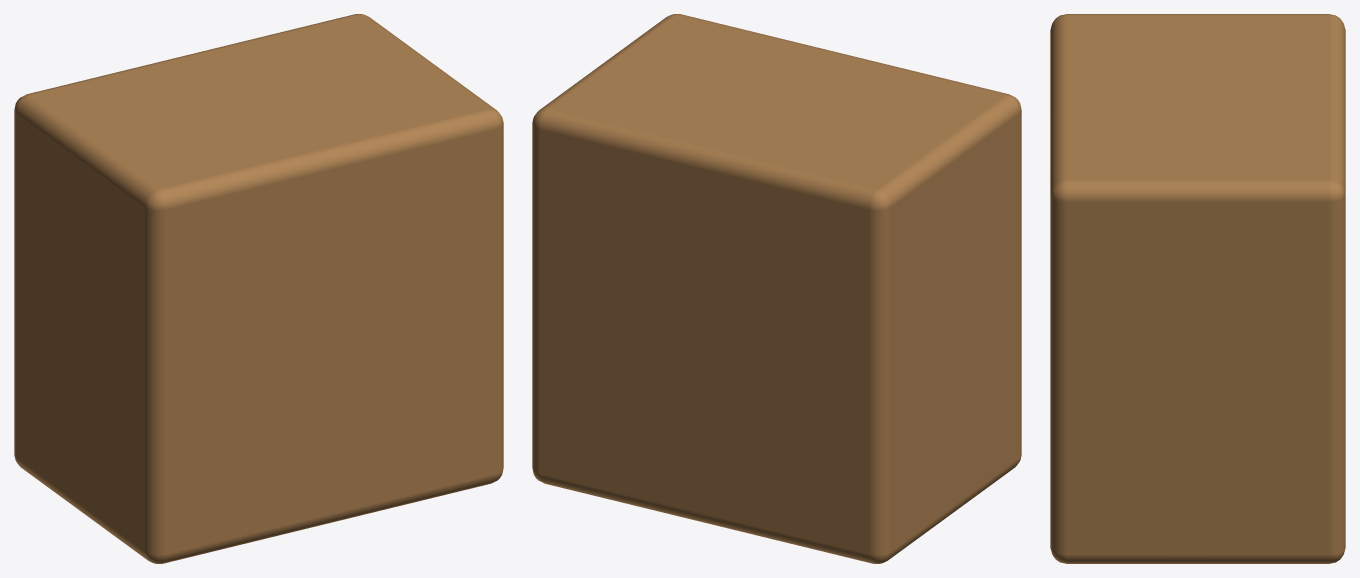
3 renders of one model, left to right at view 1: azimuth 30°, elevation 25°; view 2: azimuth 150°, elevation 25°; view 3: azimuth 270°, elevation 25°, orthographic. The views are drawn at different scales.
Parts seen in each view (by area): view 1: chapter-1; view 2: chapter-1; view 3: chapter-1.
Part boxes in pixels (x1=…): chapter-1: x1=14, y1=14, x2=503, y2=563; chapter-1: x1=532, y1=14, x2=1021, y2=563; chapter-1: x1=1050, y1=14, x2=1345, y2=563.
Size of the model in its own units: 2 by 2 by 1.4.
